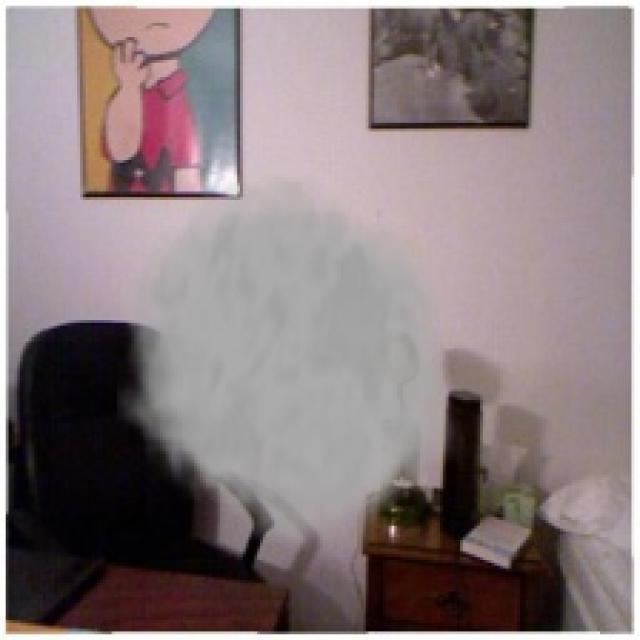Smoke: (117, 155, 469, 560)
